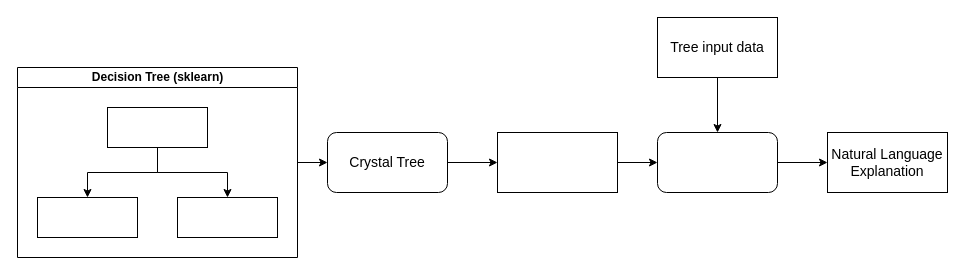
This 965x275 diagram has some shape labels left out. The centre of each missing label's shape, as x and y in pixels:
"xClingo" goes at (717,162).
"xClingo-annotated ASP program" goes at (557,162).
